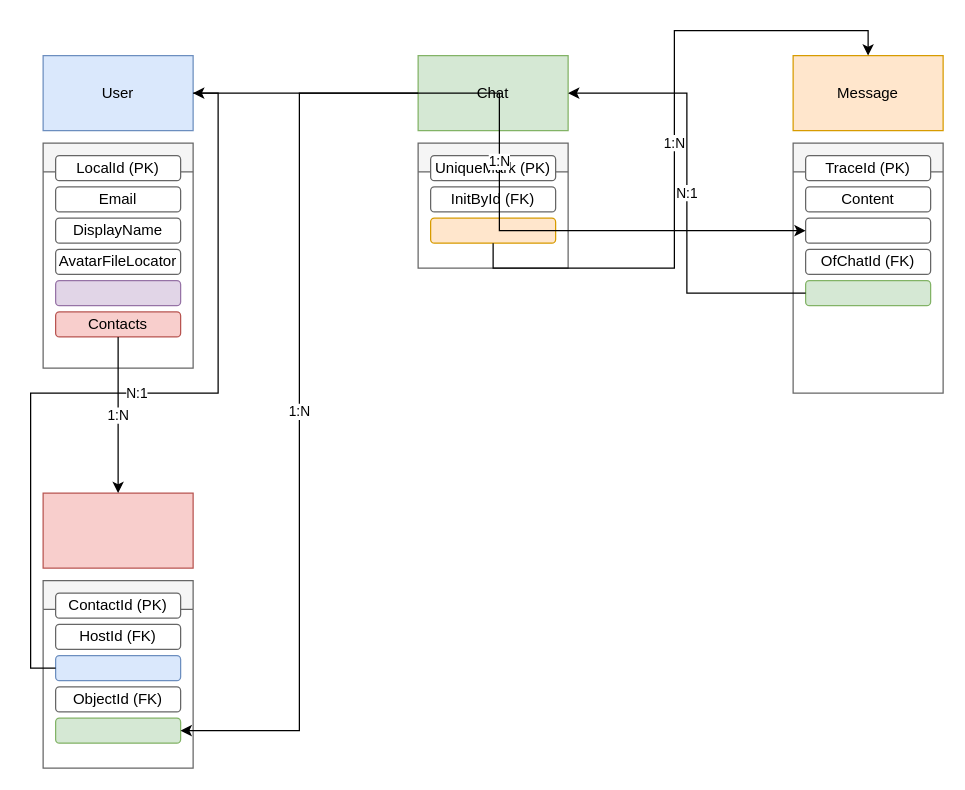
This 965x790 diagram has some shape labels left out. The shapes that lost their labels are listed below. From the top down, each one's centre as x and y in pixels, then its label:
[492,230]: History
[867,230]: SenderId (FK)
[117,292]: Privacies
[867,292]: OfChat
[117,530]: Contact
[117,667]: Host
[117,730]: Object
